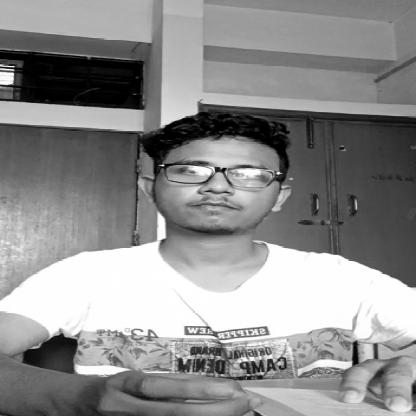Normal: (140, 139, 289, 237)
